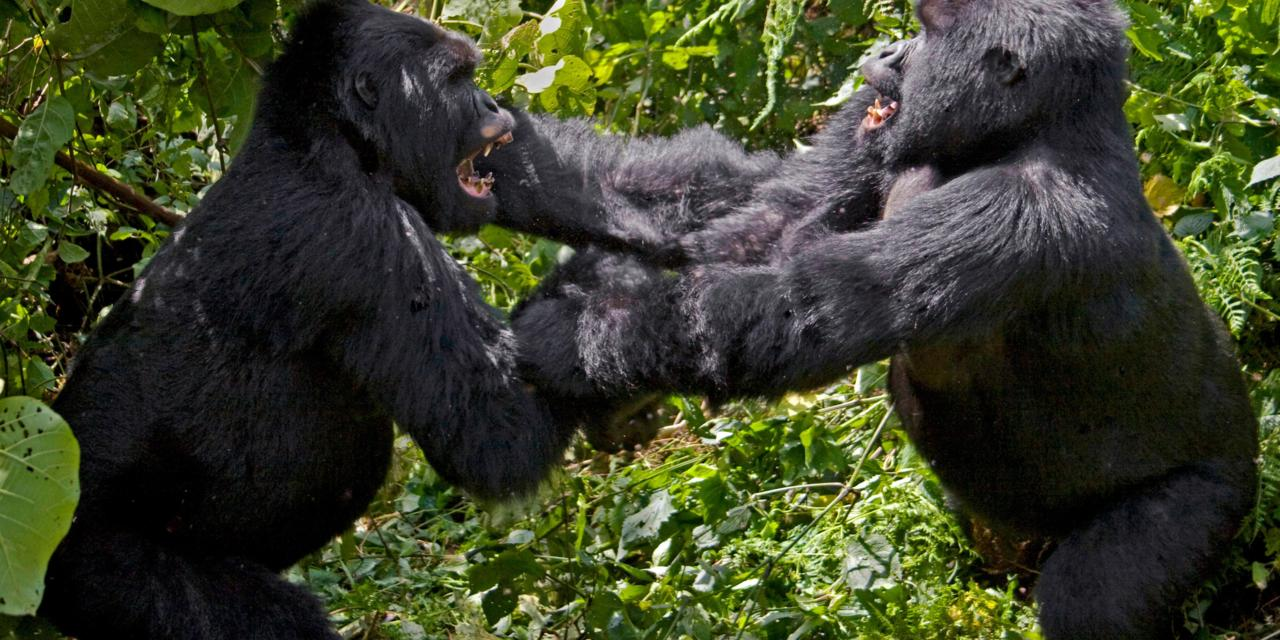Goriila: (707, 7, 1280, 628), (74, 24, 644, 640)
